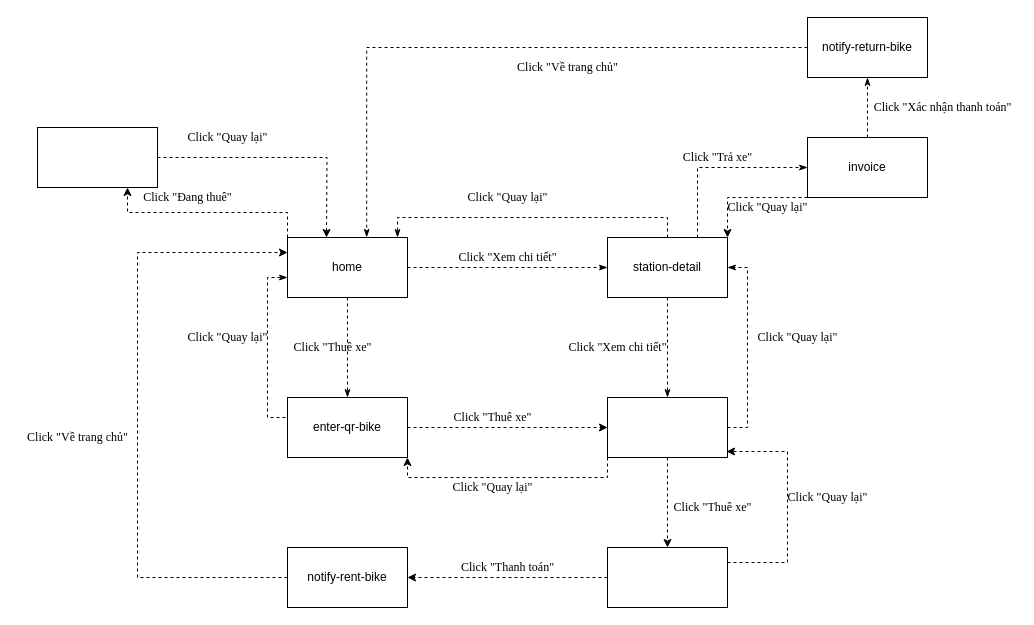
This 1034x625 diagram has some shape labels left out. The shapes that lost their labels are listed below. From the top down, each one's centre as x and y in pixels, then its label:
[97,157]: bike-detail-when-process-rent
[667,427]: bike-detail
[667,577]: form-card-info
